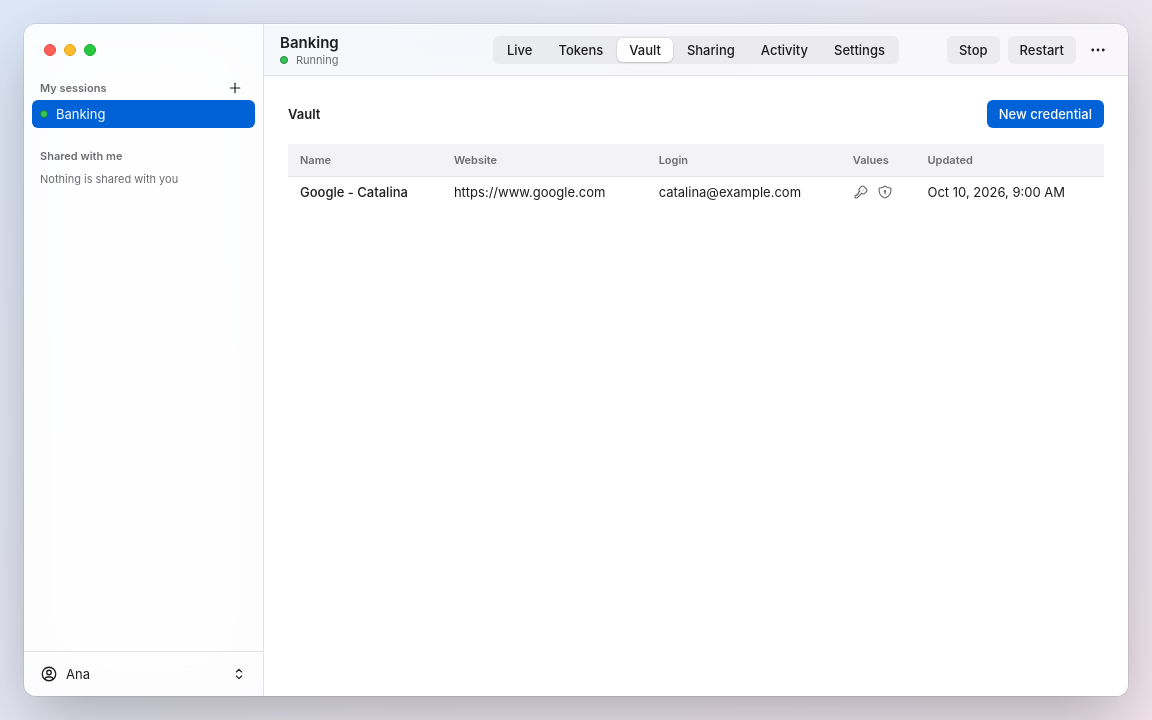
it: Vault view › lists credentials and reveals a password for the owner
Expected: the cell "catalina@example.com" is shown, [647,176,841,208]
Click the button "Google - Catalina" at (354, 192), box [300,183,408,201]
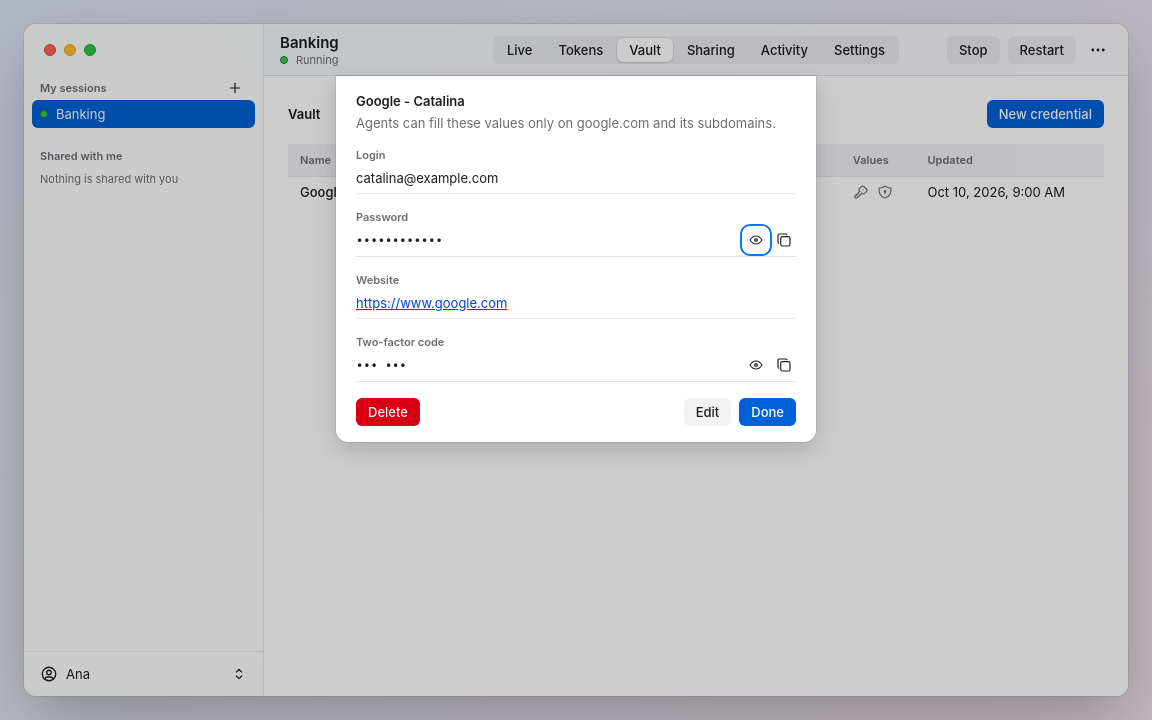
Expected: the text "hunter2-secret" is not shown
Click the button named "Show password" at (756, 240), box [744,228,768,252]
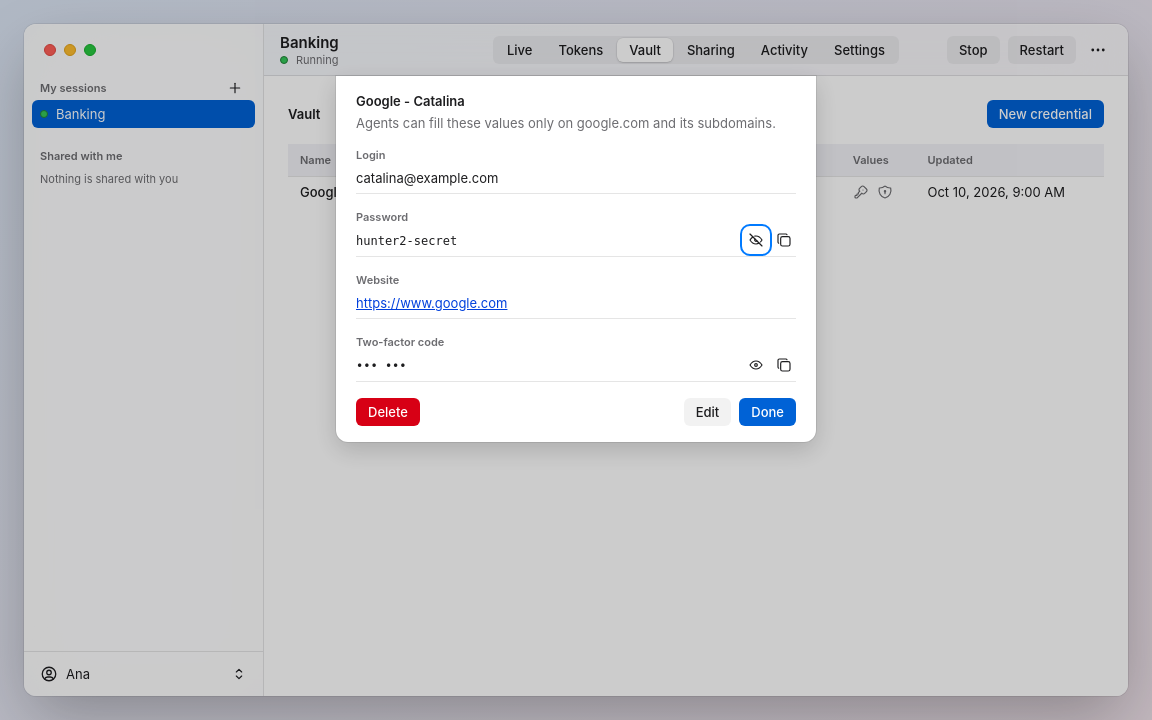
Result: the text "hunter2-secret" is shown at [356,234,457,248]
Click the button named "Hide password" at (756, 240), box [744,228,768,252]
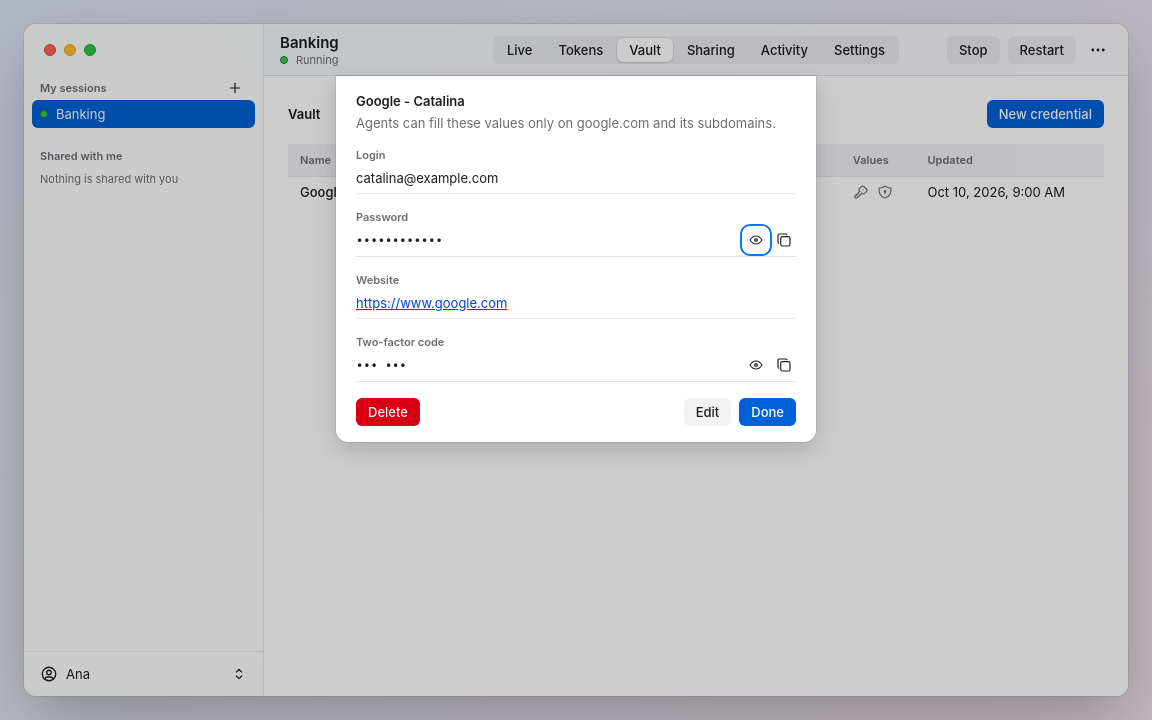
Result: the text "hunter2-secret" is gone
